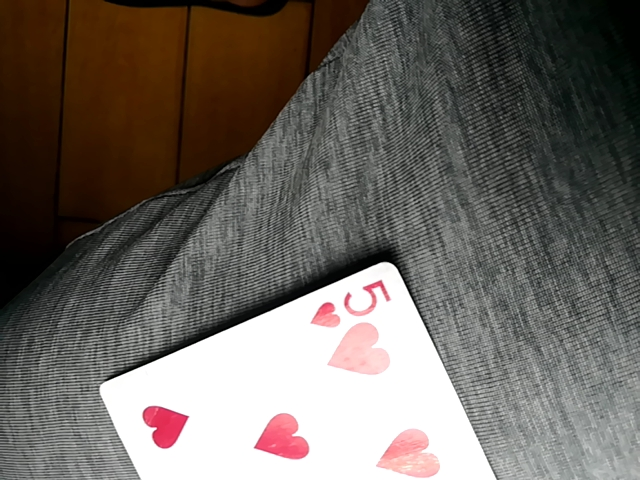hx 5: (96, 259, 496, 478)
